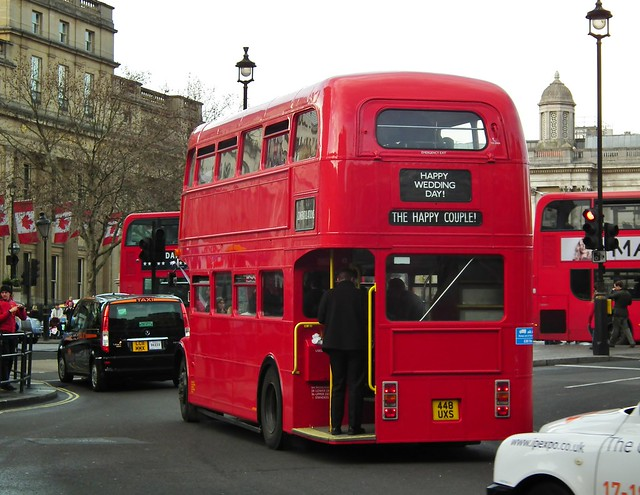bus: (177, 70, 534, 451), (535, 191, 640, 343), (119, 211, 179, 295)
car: (487, 401, 639, 495), (58, 294, 190, 392)
